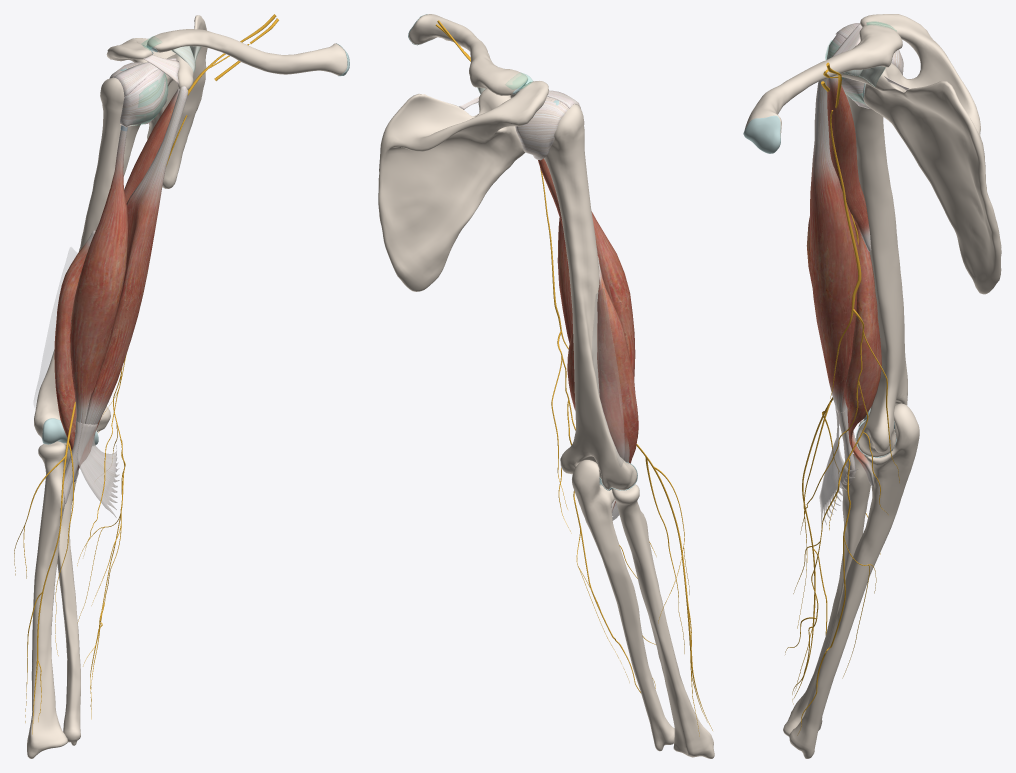
File: open3dmodel-musculocutaneous-nerve.glb
The picture shows the model from 3 angles, left to right: view 1: azimuth 30°, elevation 25°; view 2: azimuth 150°, elevation 25°; view 3: azimuth 270°, elevation 25°; orthographic projection. The views are drawn at different scales.
Visible parts, largest first — view 1: Long head of biceps brachii.r, Short head of biceps brachii.r, Radius.r, Humerus.r, Clavicle.r, Scapula.r, Ulna.r, Brachialis muscle.r, Bicipital aponeurosis.r, Articular capsule of glenohumeral joint.r, Medial antebrachial cutaneous nerve.r, Coracobrachialis muscle.r (+5 smaller); view 2: Scapula.r, Humerus.r, Ulna.r, Radius.r, Brachialis muscle.r, Clavicle.r, Lateral intermuscular septum of arm.r, Long head of biceps brachii.r, Articular capsule of glenohumeral joint.r, Medial antebrachial cutaneous nerve.r, Musculocutaneus nerve - lateral antebrachial cutaneous nerve, Short head of biceps brachii.r; view 3: Scapula.r, Humerus.r, Short head of biceps brachii.r, Ulna.r, Brachialis muscle.r, Clavicle.r, Coracobrachialis muscle.r, Radius.r, Medial antebrachial cutaneous nerve.r, Bicipital aponeurosis.r, Musculocutaneus nerve - lateral antebrachial cutaneous nerve, Art cart of sternoclavicular joint on clavicle.r (+2 smaller).
Boxes of the visible parts, left/top/right/bottom form: Long head of biceps brachii.r: left=70, top=125, right=127, bottom=423; Short head of biceps brachii.r: left=85, top=86, right=188, bottom=424; Radius.r: left=27, top=441, right=67, bottom=758; Humerus.r: left=34, top=77, right=140, bottom=438; Clavicle.r: left=147, top=29, right=347, bottom=75; Scapula.r: left=106, top=15, right=207, bottom=188; Ulna.r: left=57, top=441, right=80, bottom=745; Brachialis muscle.r: left=54, top=230, right=101, bottom=481; Bicipital aponeurosis.r: left=77, top=423, right=119, bottom=517; Articular capsule of glenohumeral joint.r: left=109, top=62, right=167, bottom=127; Medial antebrachial cutaneous nerve.r: left=77, top=115, right=187, bottom=719; Coracobrachialis muscle.r: left=124, top=88, right=179, bottom=202; Scapula.r: left=378, top=81, right=548, bottom=291; Humerus.r: left=544, top=104, right=636, bottom=490; Ulna.r: left=572, top=460, right=674, bottom=751; Radius.r: left=612, top=484, right=714, bottom=758; Brachialis muscle.r: left=567, top=257, right=638, bottom=512; Clavicle.r: left=409, top=14, right=527, bottom=95; Lateral intermuscular septum of arm.r: left=592, top=288, right=624, bottom=466; Long head of biceps brachii.r: left=591, top=211, right=635, bottom=378; Articular capsule of glenohumeral joint.r: left=515, top=96, right=568, bottom=160; Medial antebrachial cutaneous nerve.r: left=540, top=167, right=656, bottom=692; Musculocutaneus nerve - lateral antebrachial cutaneous nerve: left=643, top=453, right=712, bottom=736; Short head of biceps brachii.r: left=557, top=218, right=572, bottom=343; Scapula.r: left=834, top=14, right=1001, bottom=294; Humerus.r: left=845, top=93, right=907, bottom=456; Short head of biceps brachii.r: left=810, top=79, right=859, bottom=412; Ulna.r: left=789, top=403, right=919, bottom=758; Brachialis muscle.r: left=844, top=223, right=881, bottom=486; Clavicle.r: left=744, top=24, right=902, bottom=137; Coracobrachialis muscle.r: left=827, top=76, right=871, bottom=251; Radius.r: left=783, top=420, right=870, bottom=736; Medial antebrachial cutaneous nerve.r: left=785, top=110, right=899, bottom=735; Bicipital aponeurosis.r: left=819, top=407, right=858, bottom=531; Musculocutaneus nerve - lateral antebrachial cutaneous nerve: left=793, top=397, right=880, bottom=698; Art cart of sternoclavicular joint on clavicle.r: left=743, top=115, right=780, bottom=153.
Bounding box in the file's own units: 0.2782 × 0.5788 × 0.1651.
Materials: 16 (5 with a texture image).
